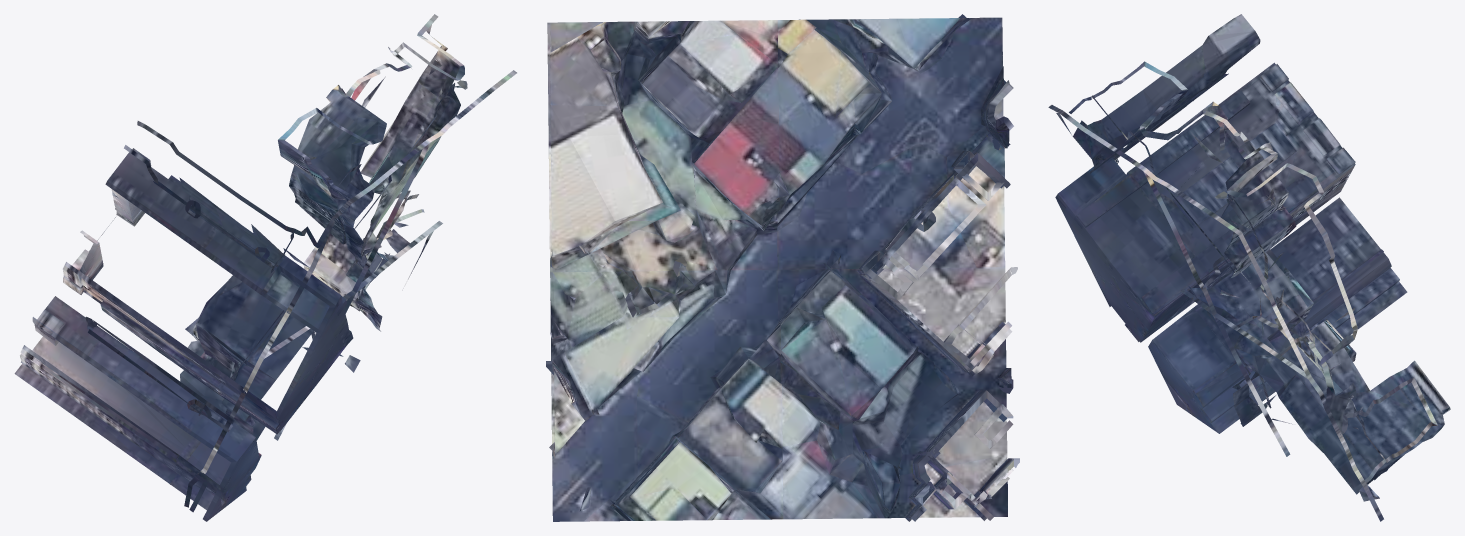
3 renders of one model, left to right at view 1: azimuth 30°, elevation 25°; view 2: azimuth 150°, elevation 25°; view 3: azimuth 270°, elevation 25°, orthographic. The views are drawn at different scales.
Bounding box in the file's own units: 95.25 × 79.63 × 77.72.
2 materials, 2 textured.
